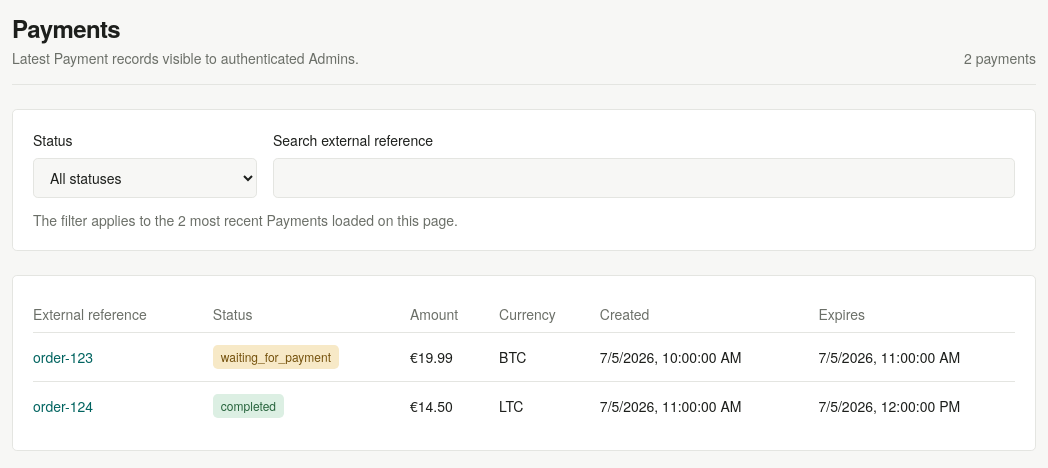
Test case: AdminPaymentsPage › says a filter is hiding Payments rather than claiming there are none
The width and height of the screenshot is (1048, 468).
Expected: the link "order-123" is shown, top-left (33, 347), bottom-right (93, 367)
Select "settled" in the dropdown labelled "Status" at x=145, y=178, box top-left (33, 158), bottom-right (257, 198)
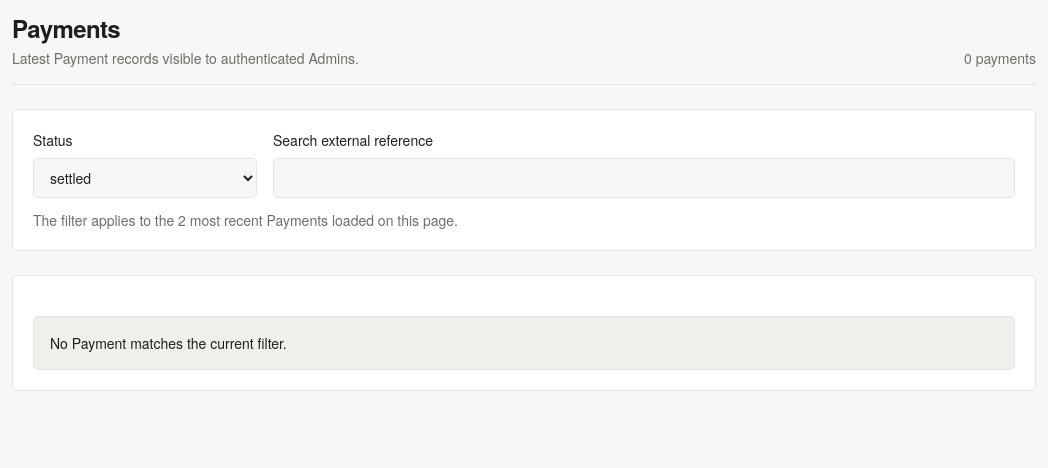
Result: the text "No Payment matches the current filter." is shown at top-left (33, 316), bottom-right (1015, 370)
